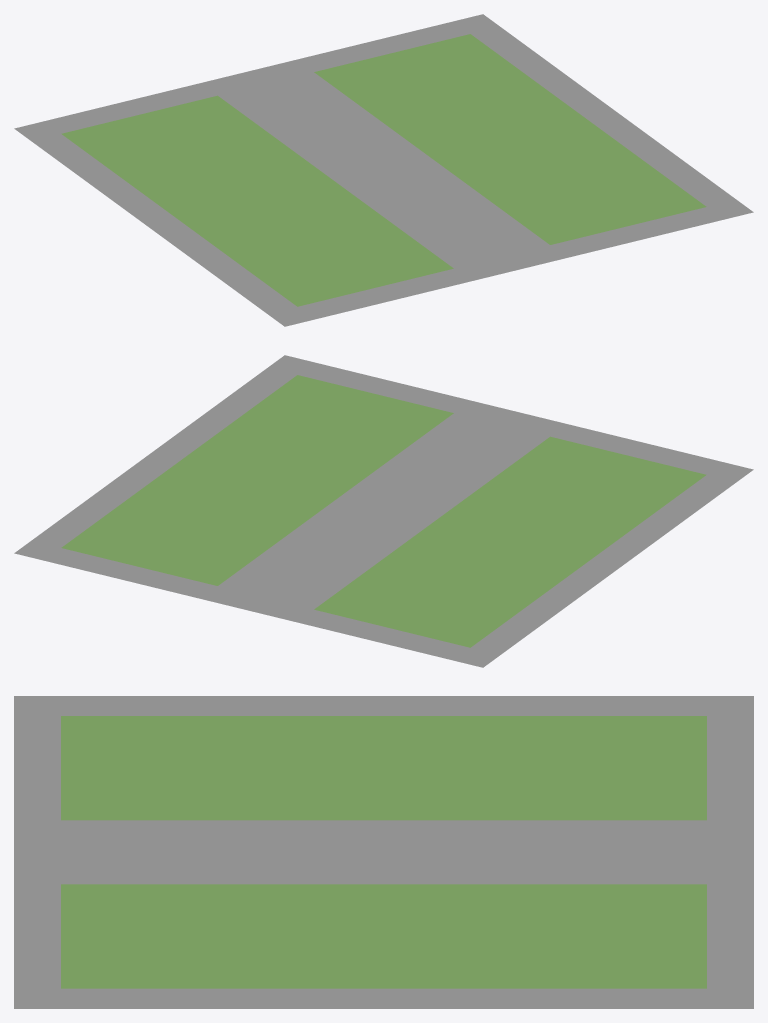
Rendered from tile_for_home_2x2_003.fbx.
The picture shows the model from 3 angles, top to bottom: view 1: azimuth 30°, elevation 25°; view 2: azimuth 150°, elevation 25°; view 3: azimuth 270°, elevation 25°; orthographic projection. The views are drawn at different scales.
Parts seen in each view (by area): view 1: tile_for_home_2x2_003; view 2: tile_for_home_2x2_003; view 3: tile_for_home_2x2_003.
Boxes of the visible parts, x1,y1,x2,y2 form: tile_for_home_2x2_003: (14, 14, 753, 326); tile_for_home_2x2_003: (14, 355, 753, 667); tile_for_home_2x2_003: (14, 696, 753, 1008).
Bounding box in the file's own units: 1600 × 0.2897 × 1600.
